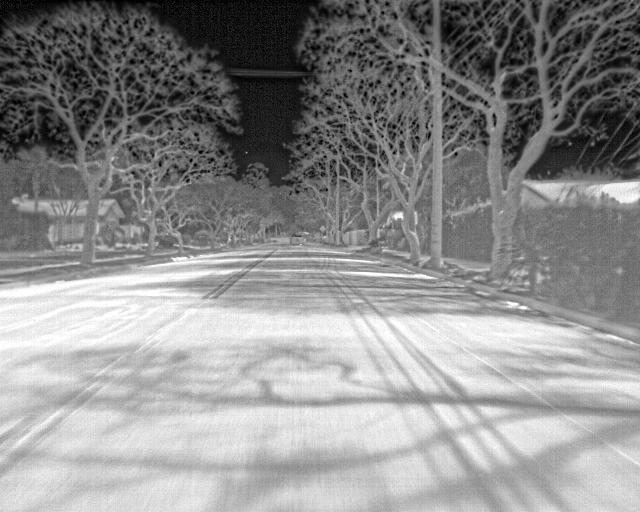car: (288, 227, 307, 246)
